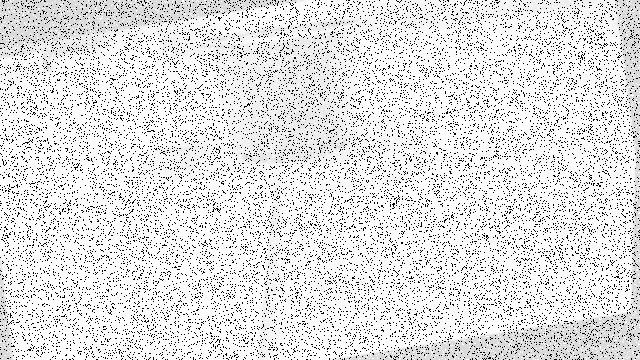pot: (198, 18, 368, 162)
